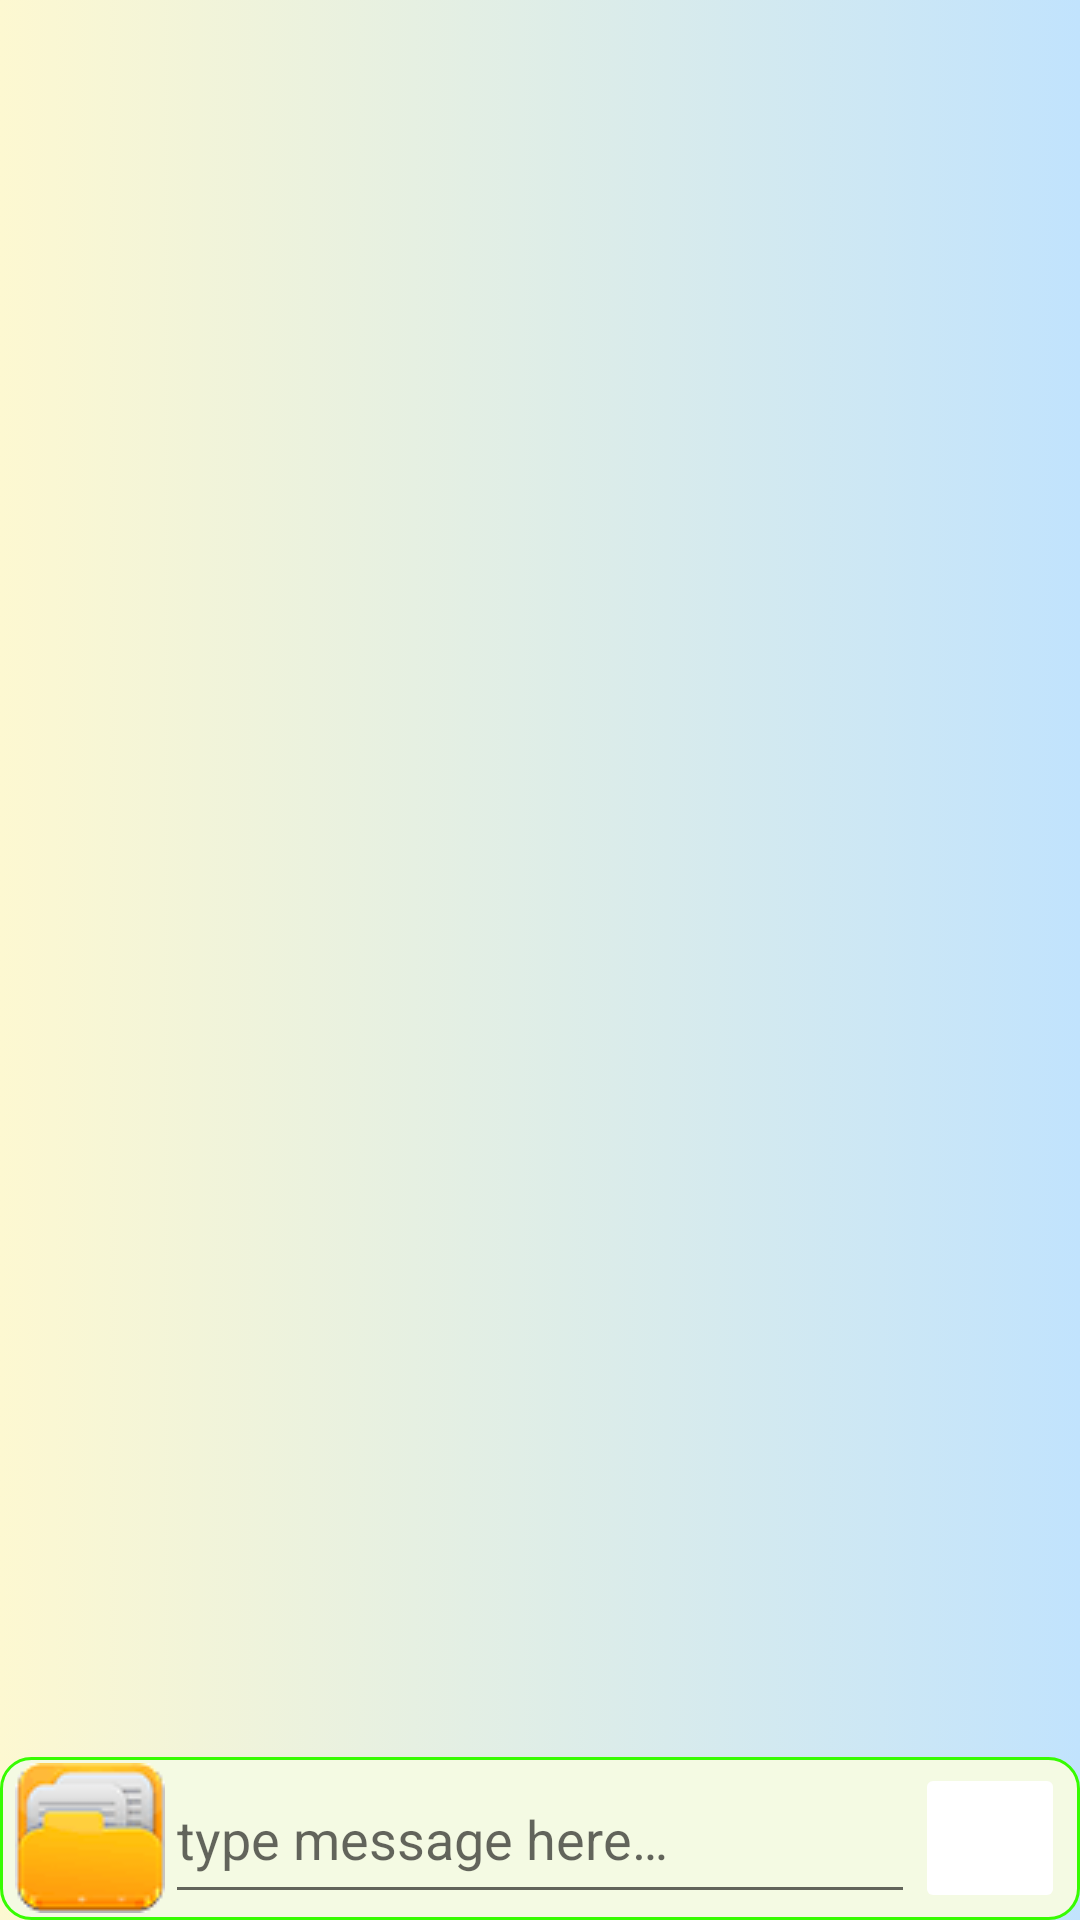

Locate icon controls on the screen. Image size 1080*1920, boxes as (x1, y1, x2, y2).
send files: (15, 1763, 165, 1913)
